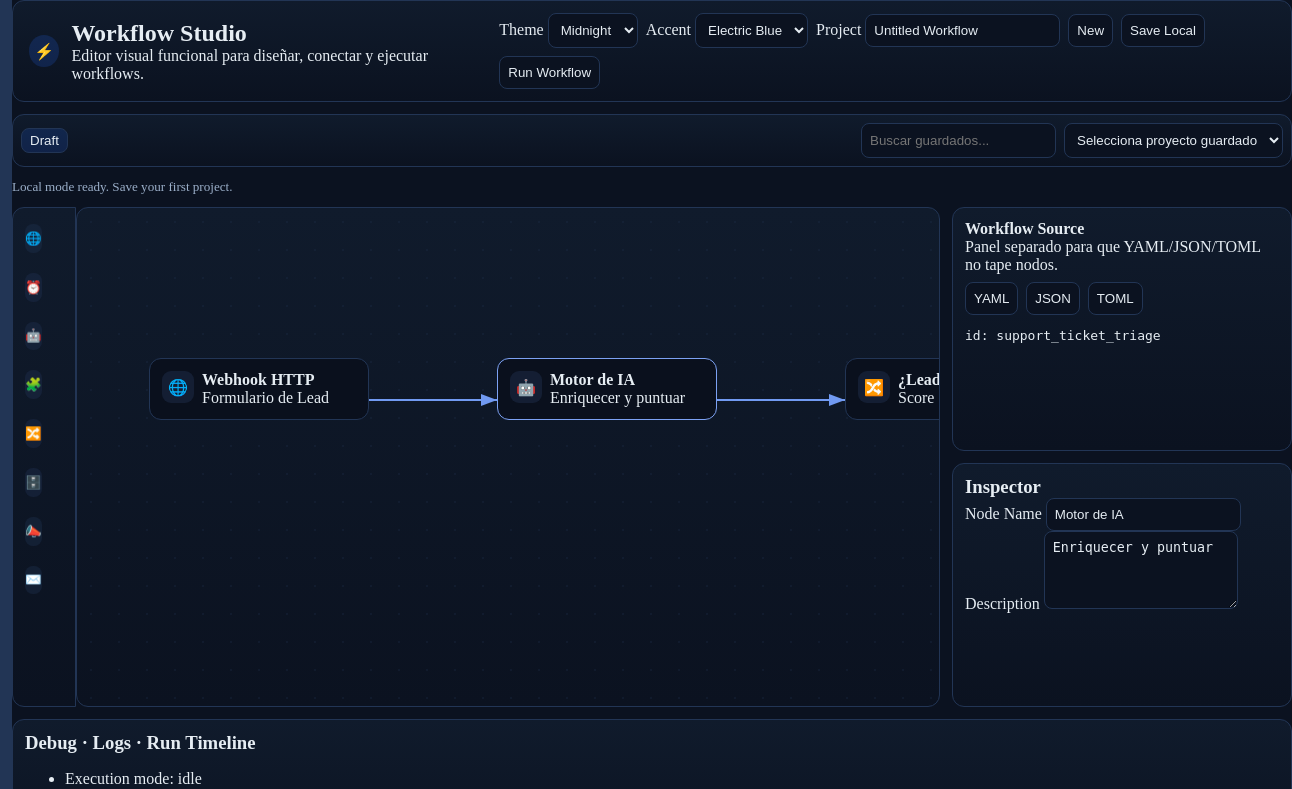
Test case: WorkflowStudioPageComponent › should request and render the JSON workflow example when selected
The width and height of the screenshot is (1292, 789).
Click the tab with class "example-tab" showing "JSON".
click(1053, 298)  # box [1026,282,1080,315]
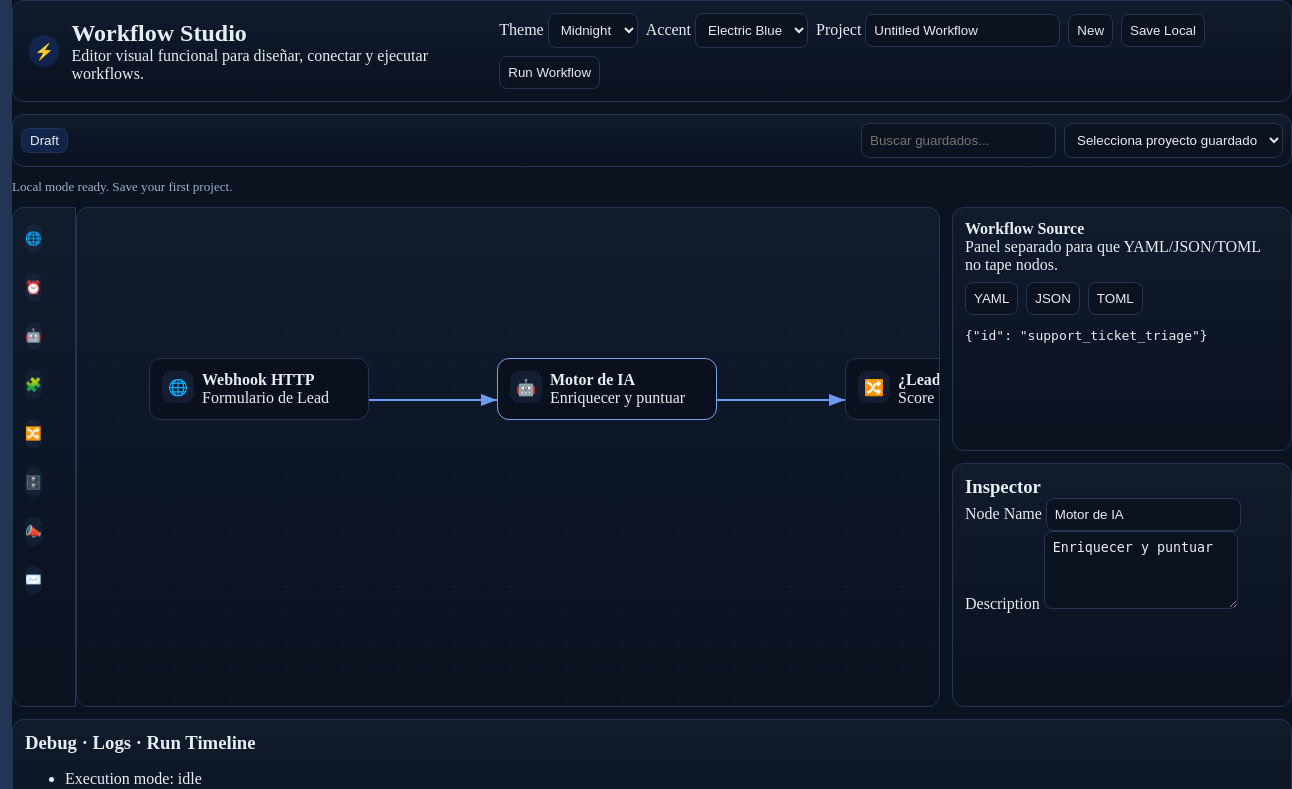
Check: the text "{\"id\": \"support_ticket_triage\"}" is shown, box [965,328,1208,343]
